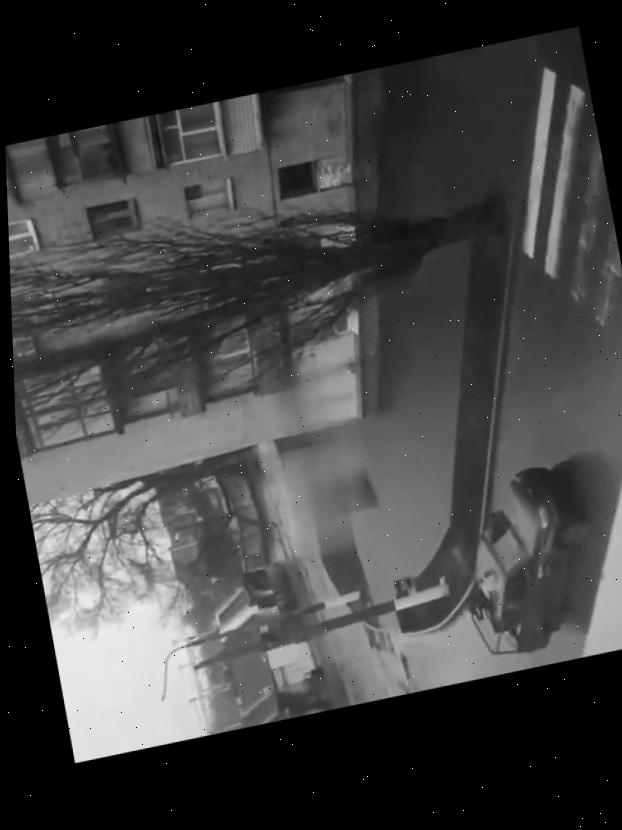car: (443, 455, 609, 666)
